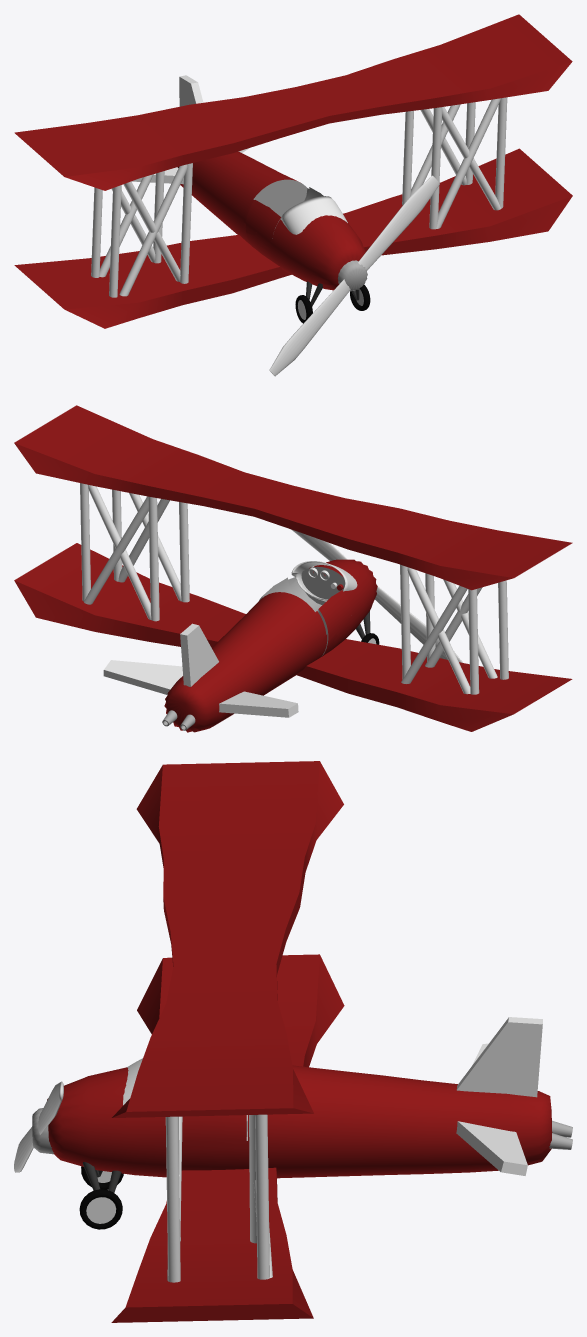
Rendered from space-fight.fbx.
3 views of the same model, one above another, from view 1: azimuth 30°, elevation 25°; view 2: azimuth 150°, elevation 25°; view 3: azimuth 270°, elevation 25° (orthographic). The views are drawn at different scales.
Parts seen in each view (by area): view 1: polySurface9, polySurface10; view 2: polySurface9, polySurface10; view 3: polySurface9, polySurface10.
Part boxes in pixels (left/top/right/bottom): polySurface9: left=14, top=14, right=572, bottom=328; polySurface10: left=269, top=175, right=439, bottom=376; polySurface9: left=14, top=405, right=572, bottom=732; polySurface10: left=291, top=529, right=462, bottom=662; polySurface9: left=32, top=761, right=572, bottom=1322; polySurface10: left=14, top=1081, right=63, bottom=1172.
Bounding box in the file's own units: 46.49 × 18.66 × 30.88.
